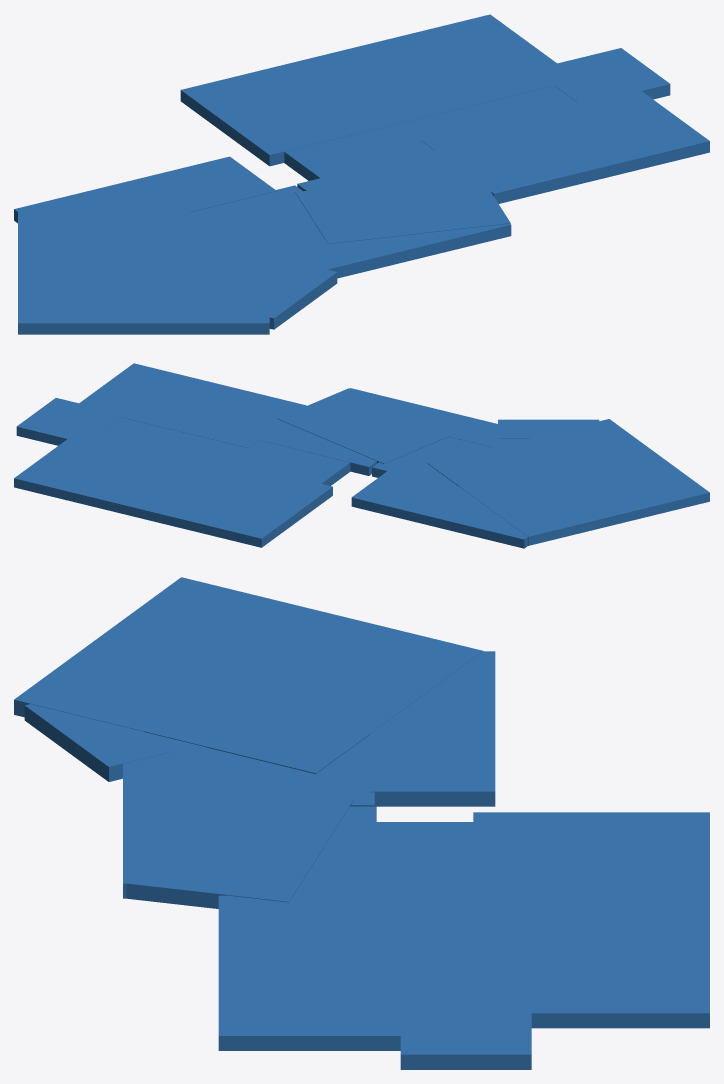
Rendered from p_MirrorLake.fbx.
3 renders of one model, top to bottom at view 1: azimuth 30°, elevation 25°; view 2: azimuth 150°, elevation 25°; view 3: azimuth 270°, elevation 25°, orthographic. The views are drawn at different scales.
Visible parts, largest first — view 1: Water__13_, Water__31_, Water__20_, Water__15_, Water__32_, Water__34_, Water__11_, Water__33_, Water__12_, Water__14_, Water__16_; view 2: Water__31_, Water__13_, Water__20_, Water__15_, Water__34_, Water__32_, Water__33_, Water__11_, Water__12_, Water__16_, Water__14_; view 3: Water__31_, Water__13_, Water__20_, Water__15_, Water__34_, Water__32_, Water__33_, Water__11_, Water__12_, Water__14_, Water__16_.
Boxes of the visible parts, bbox=[...] form: Water__13_: bbox=[18, 212, 269, 334]; Water__31_: bbox=[180, 14, 575, 166]; Water__20_: bbox=[421, 88, 709, 203]; Water__15_: bbox=[295, 171, 510, 243]; Water__32_: bbox=[284, 86, 576, 180]; Water__34_: bbox=[14, 156, 276, 222]; Water__11_: bbox=[269, 223, 511, 278]; Water__33_: bbox=[533, 48, 670, 104]; Water__12_: bbox=[192, 185, 324, 252]; Water__14_: bbox=[269, 260, 337, 329]; Water__16_: bbox=[297, 146, 465, 191]; Water__31_: bbox=[14, 426, 332, 547]; Water__13_: bbox=[427, 419, 709, 545]; Water__20_: bbox=[76, 363, 306, 448]; Water__15_: bbox=[277, 388, 455, 463]; Water__34_: bbox=[351, 470, 527, 548]; Water__32_: bbox=[105, 418, 350, 485]; Water__33_: bbox=[16, 398, 125, 445]; Water__11_: bbox=[350, 388, 528, 447]; Water__12_: bbox=[372, 437, 491, 486]; Water__16_: bbox=[258, 412, 376, 475]; Water__14_: bbox=[498, 419, 599, 438]; Water__31_: bbox=[473, 812, 709, 1028]; Water__13_: bbox=[14, 577, 482, 773]; Water__20_: bbox=[218, 895, 412, 1050]; Water__15_: bbox=[126, 781, 353, 908]; Water__34_: bbox=[370, 651, 495, 806]; Water__32_: bbox=[376, 822, 473, 997]; Water__33_: bbox=[400, 997, 531, 1069]; Water__11_: bbox=[123, 732, 206, 898]; Water__12_: bbox=[207, 735, 374, 806]; Water__14_: bbox=[24, 704, 170, 781]; Water__16_: bbox=[293, 806, 376, 895].
Bounding box in the file's own units: 3372 × 53 × 2079.
